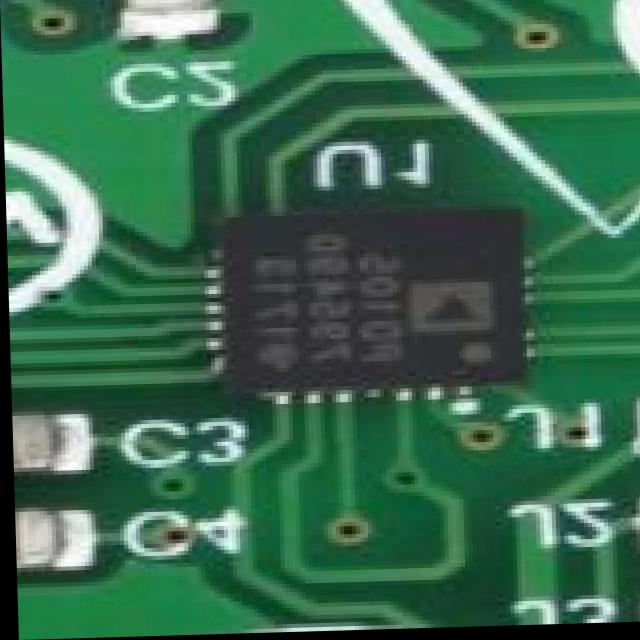IC: (233, 210, 545, 395)
capacitor: (10, 414, 83, 480), (12, 499, 69, 572), (116, 0, 213, 25)
